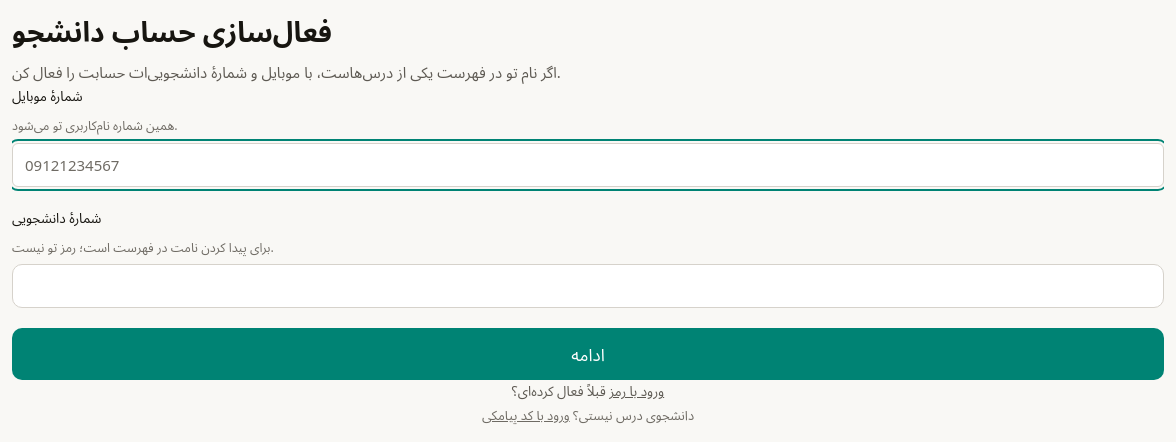
Test: فعال‌سازی حساب دانشجو › «نه» درخواست را لغو می‌کند و به گام اول برمی‌گردد
Type "۰۹۱۲۱۲۳۴۵۶۷" into the field labelled "شمارهٔ موبایل" at (588, 165), box [12,143,1164,187]
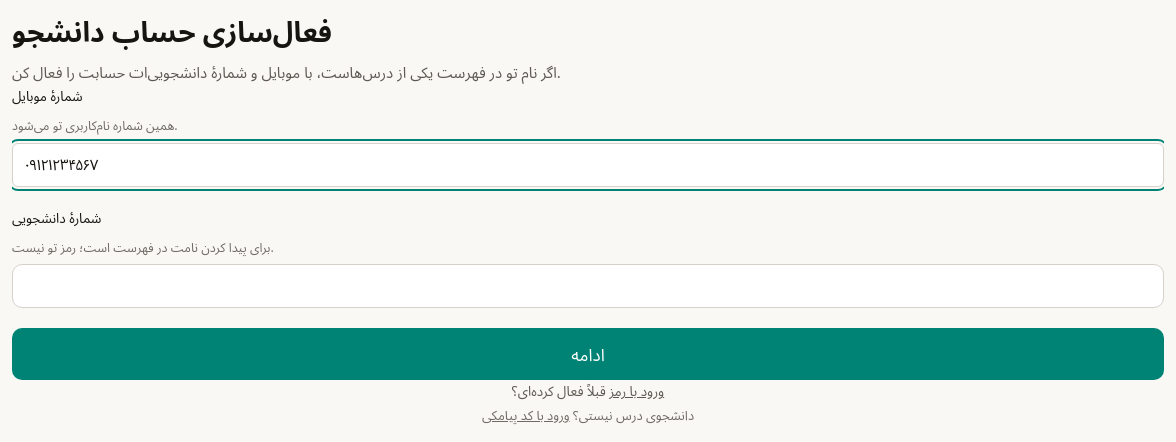
Type "۴۰۲۱۲۳۴۵۶" into the field labelled "شمارهٔ دانشجویی" at (588, 286), box [12,264,1164,308]
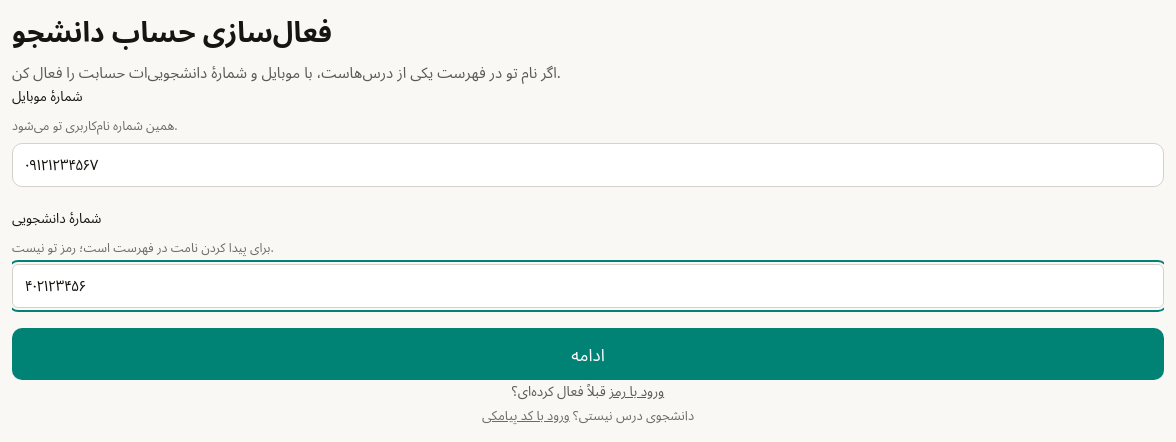
Click the button "ادامه" at (588, 354), box [12,328,1164,380]
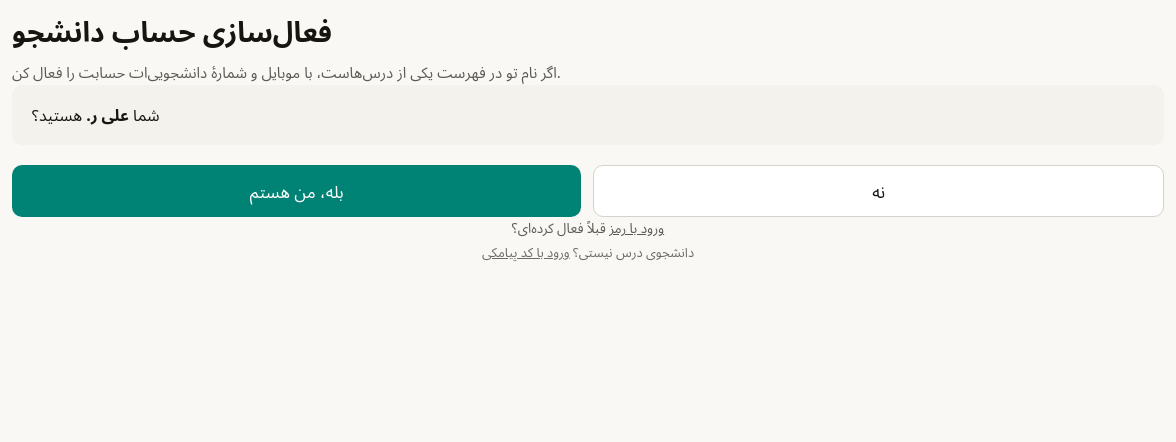
Click the button "نه" at (879, 191), box [594,165,1164,217]
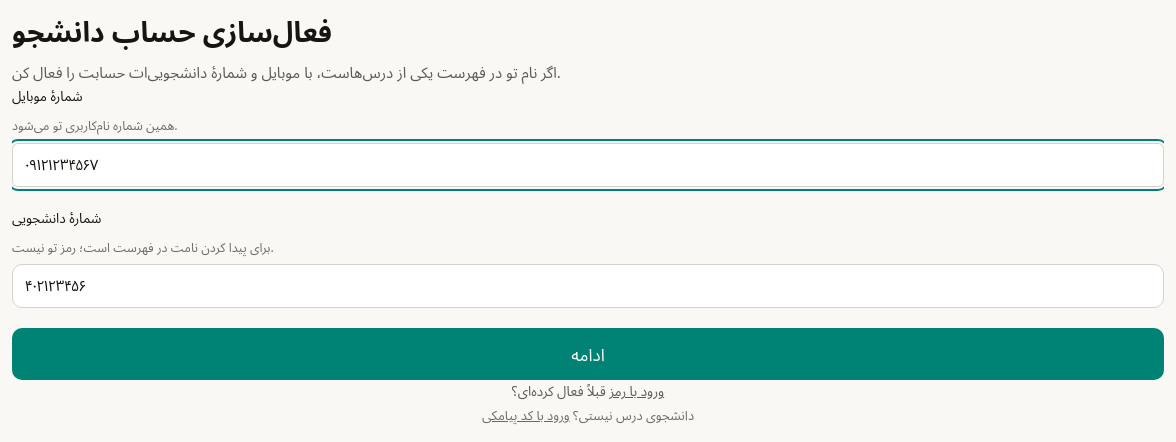
Expected: the field labelled "شمارهٔ دانشجویی" is shown, [12,264,1164,308]
